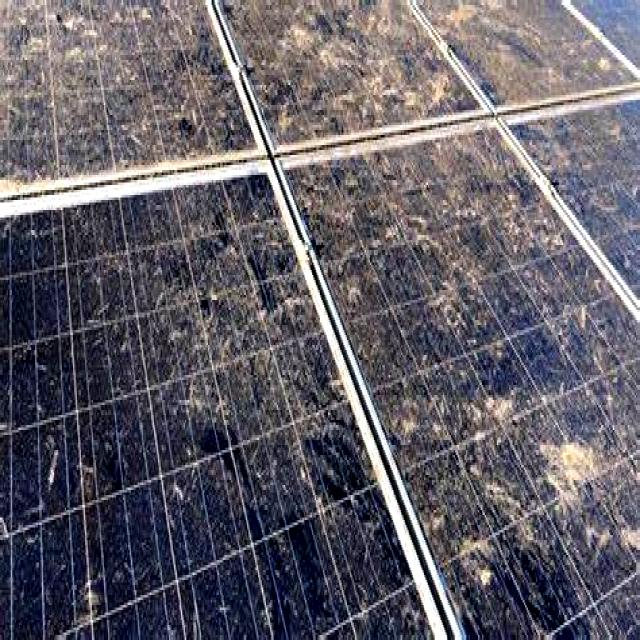bird: (165, 217, 259, 346), (538, 422, 612, 524), (115, 35, 198, 120), (296, 32, 392, 100), (279, 430, 335, 546), (442, 512, 520, 589), (386, 186, 444, 286), (419, 391, 499, 452), (47, 572, 116, 639), (556, 270, 610, 336), (150, 443, 198, 509), (33, 8, 98, 54), (42, 436, 79, 504)
